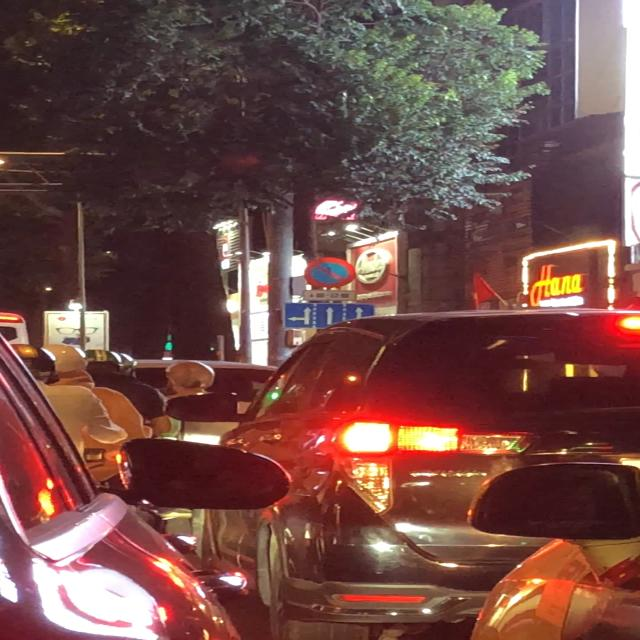Bien bao cam do xe: (301, 258, 362, 292)
